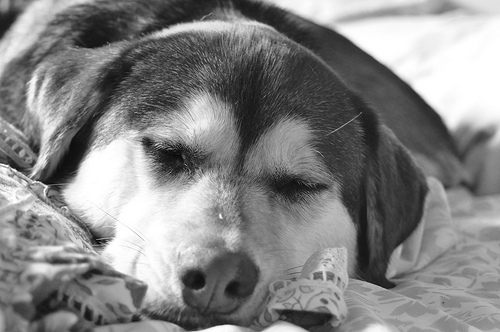dog: (0, 0, 463, 328)
